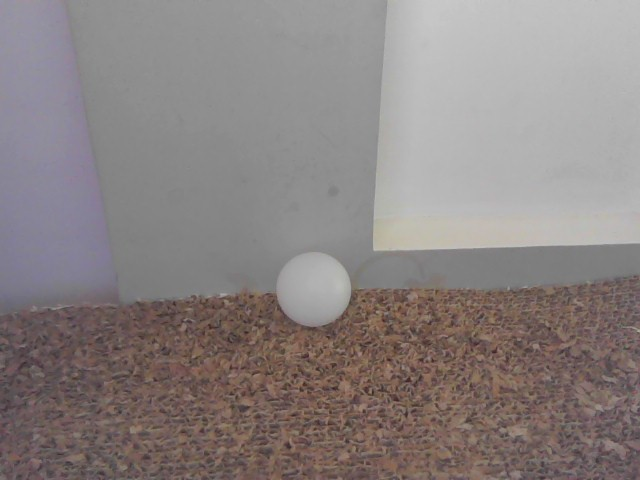ball: (274, 253, 352, 326)
